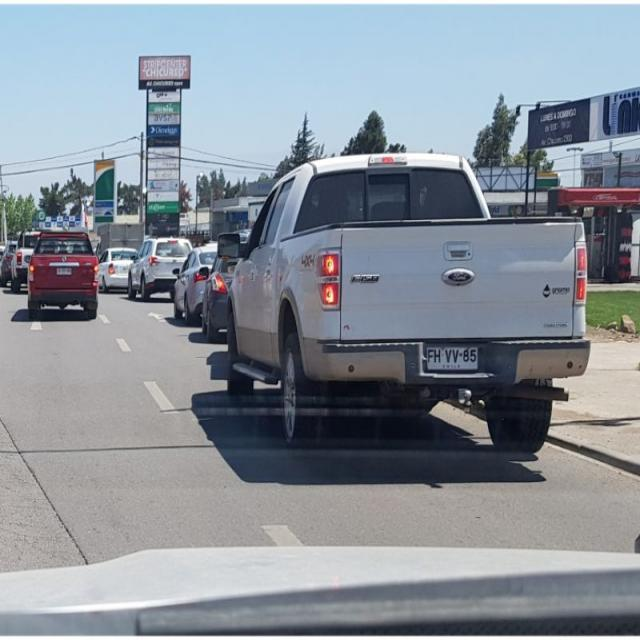Ad-signs: (137, 54, 190, 90)
Pickup: (221, 150, 591, 454)
